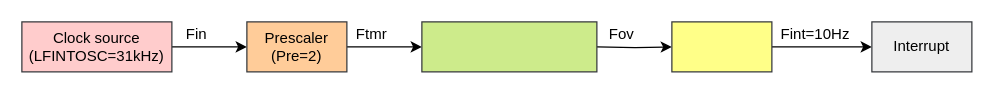
This 994x94 diagram has some shape labels left out. The box of each missing label's shape, as (x1, y1, x2, y2) in pixels:
Poscaler (Pos): (671, 21, 772, 72)
TMR2 Body (TMR==PRx/TxPR?): (421, 21, 597, 72)
